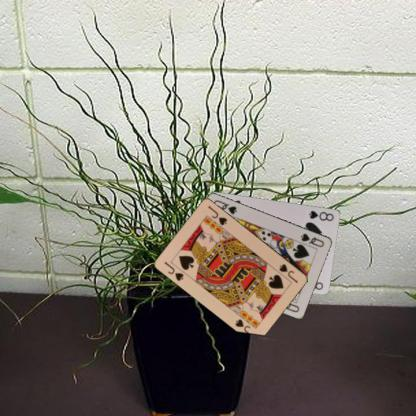8s: (306, 208, 335, 222)
Js: (162, 259, 185, 282), (277, 261, 299, 284)
Qs: (298, 230, 325, 249)
